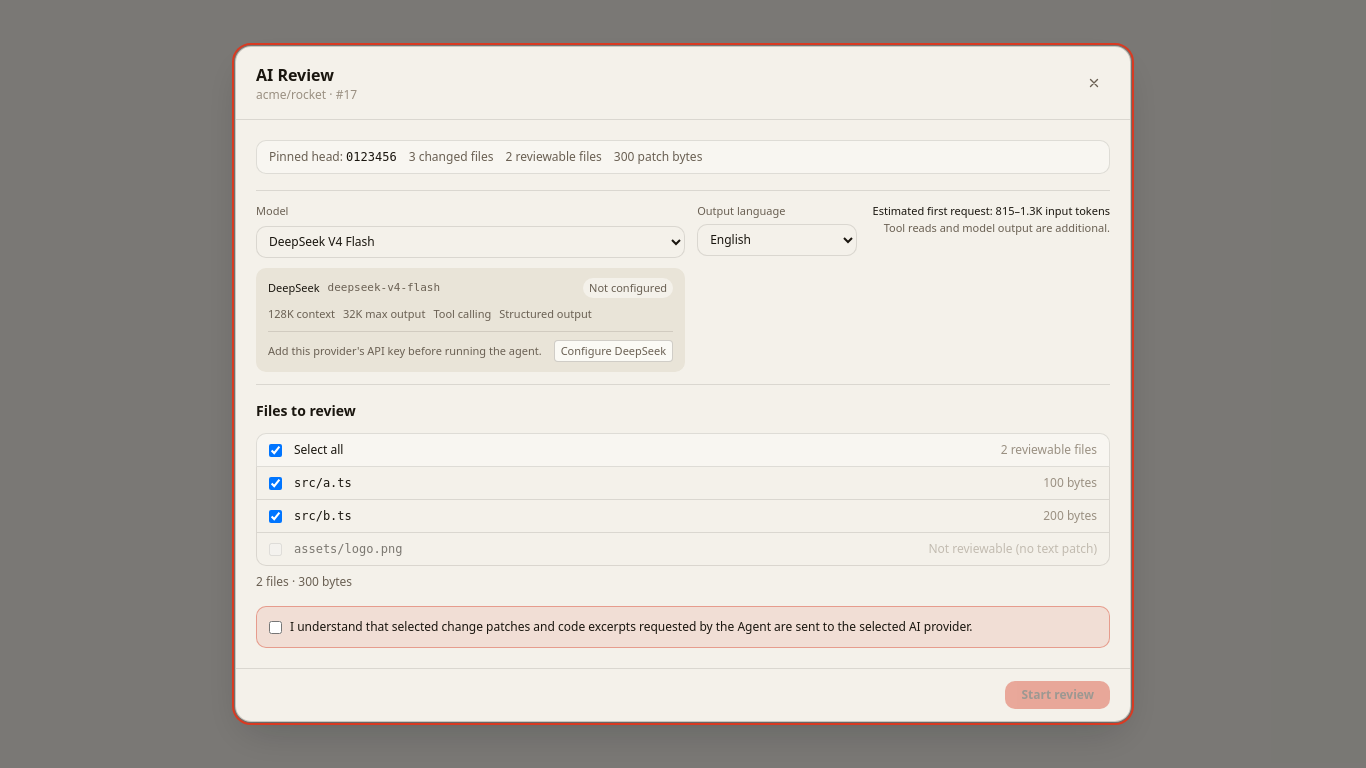
Test case: PrReviewWorkspace › selects all reviewable files, exposes partial selection, and clears all
Expected: the text "0123456" is shown, [346,150,397,164]
Click the checkbox labelled "src/a.ts".
click(276, 483)  # box [269,476,282,490]
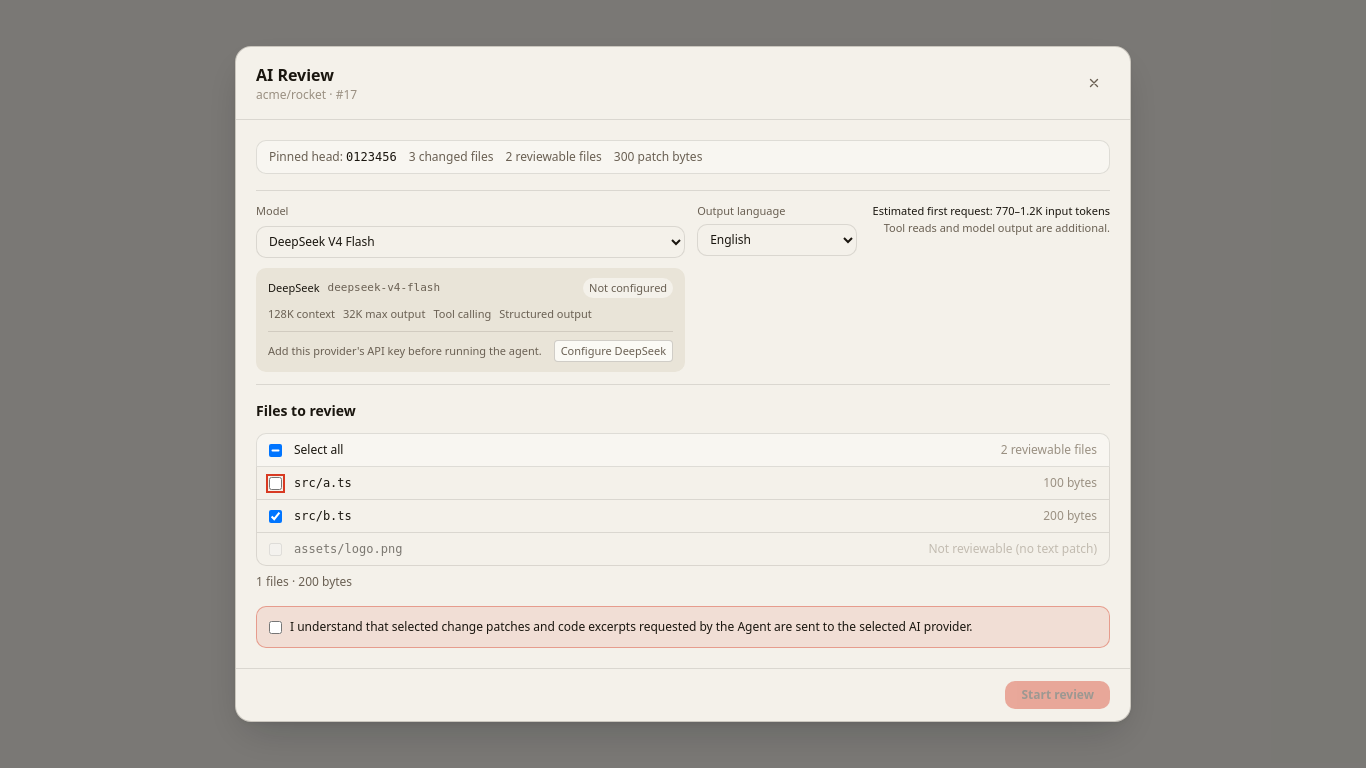
Now the checkbox named "Select all reviewable files" is not checked
Click the checkbox named "Select all reviewable files".
click(276, 450)  # box [269,444,282,456]
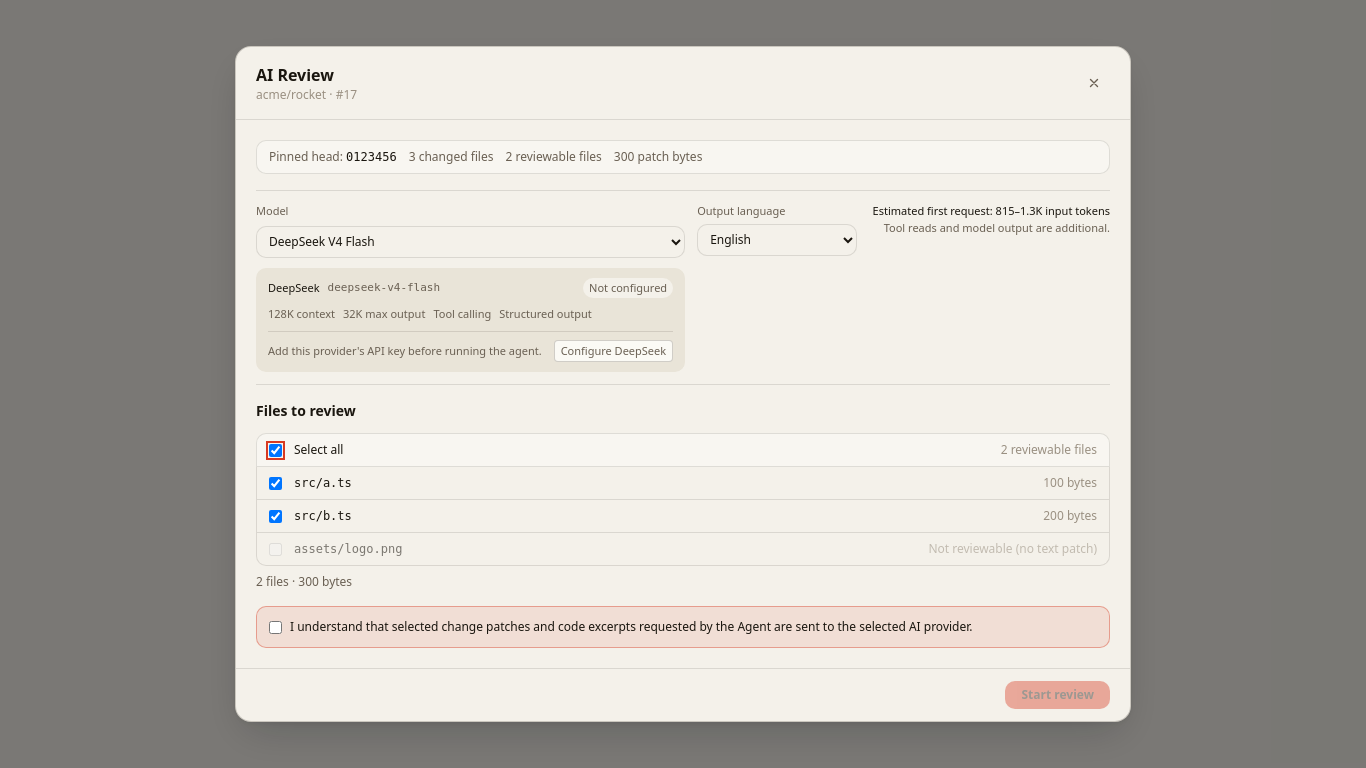
Expected: the checkbox labelled "src/b.ts" is checked, [269,510,282,522]
Now the checkbox labelled "src/a.ts" is checked, box [269,476,282,490]
Click the checkbox named "Select all reviewable files".
click(276, 450)  # box [269,444,282,456]
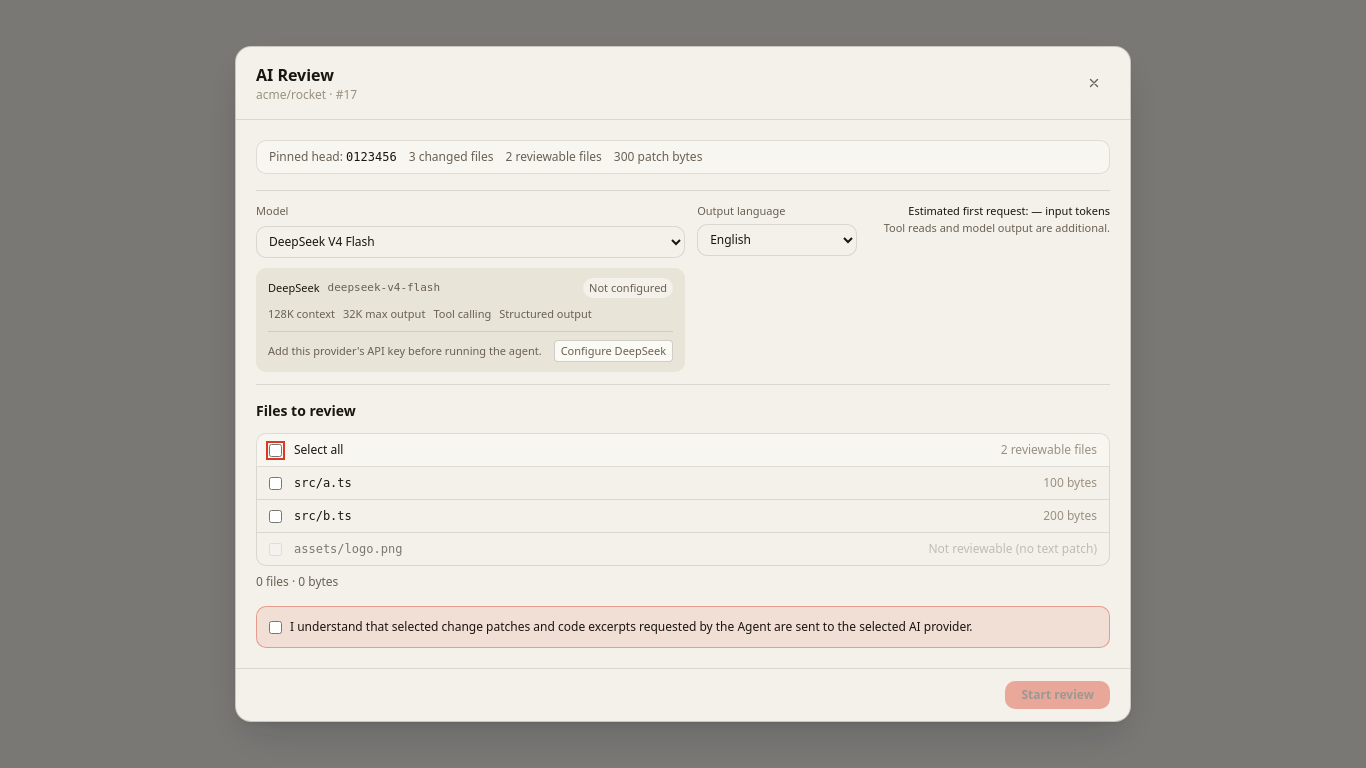
Now the checkbox labelled "src/a.ts" is not checked, box [269,476,282,490]
Now the checkbox labelled "src/b.ts" is not checked, box [269,510,282,522]
